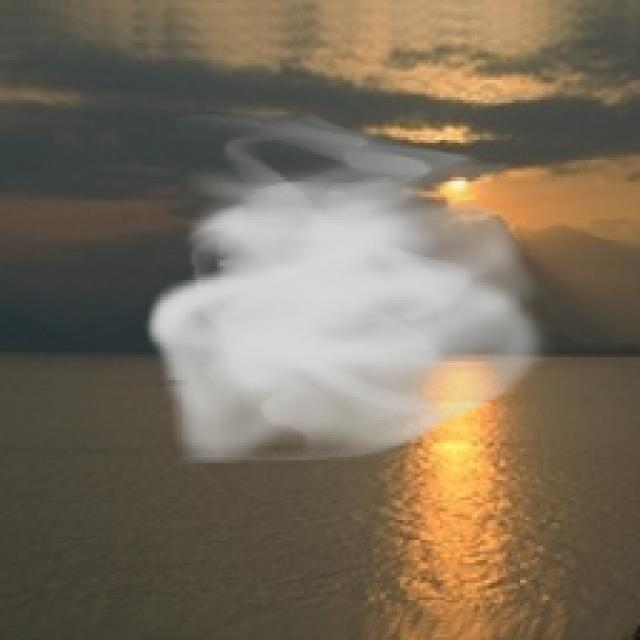smoke: (143, 106, 557, 474)
